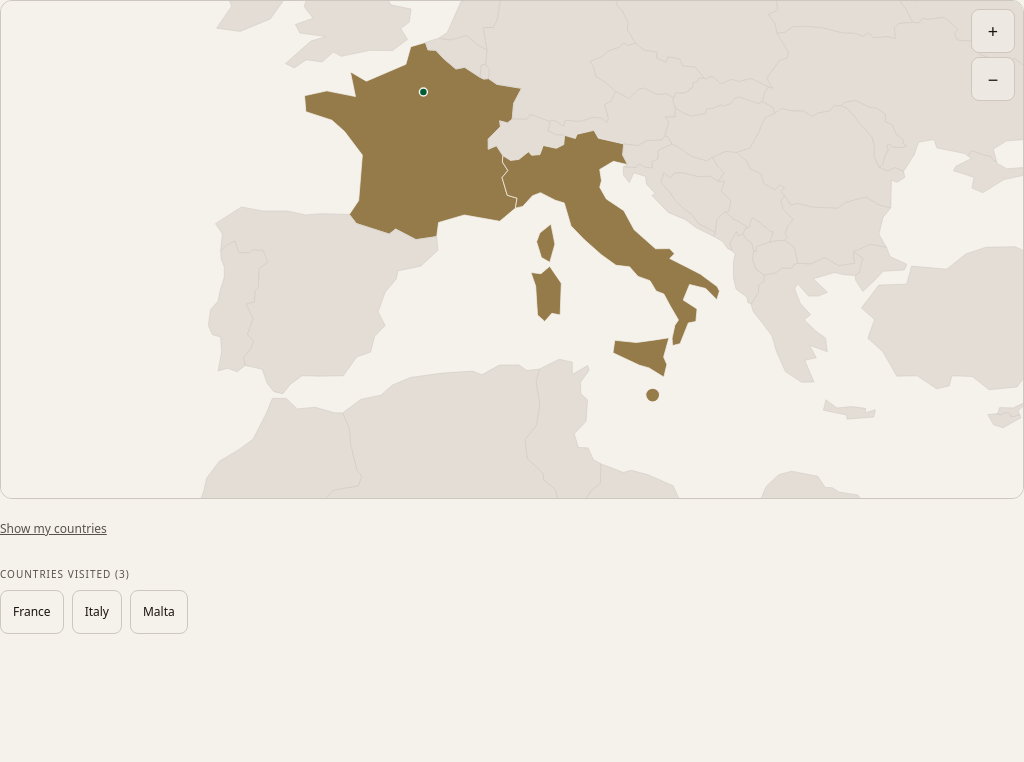
Test: a country's sheet › "✕" (read "Close") closes it, and so does Escape; its heading takes focus when it opens
expect the button "Show my countries" is shown: met, box [0, 507, 107, 551]
Click the button "France" at (32, 612), box [0, 590, 64, 634]
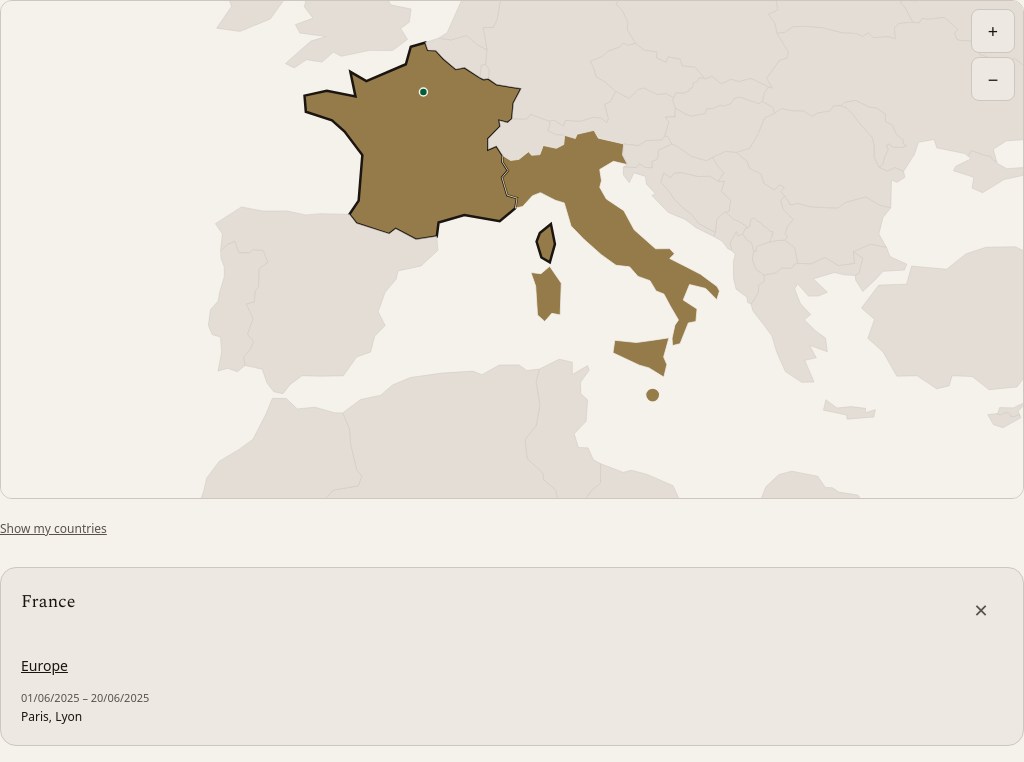
expect the heading "France" is shown: met, box [21, 588, 76, 616]
expect the button named "Close" reads "✕": met
Click the button named "Close" at (981, 610), box [959, 588, 1003, 632]
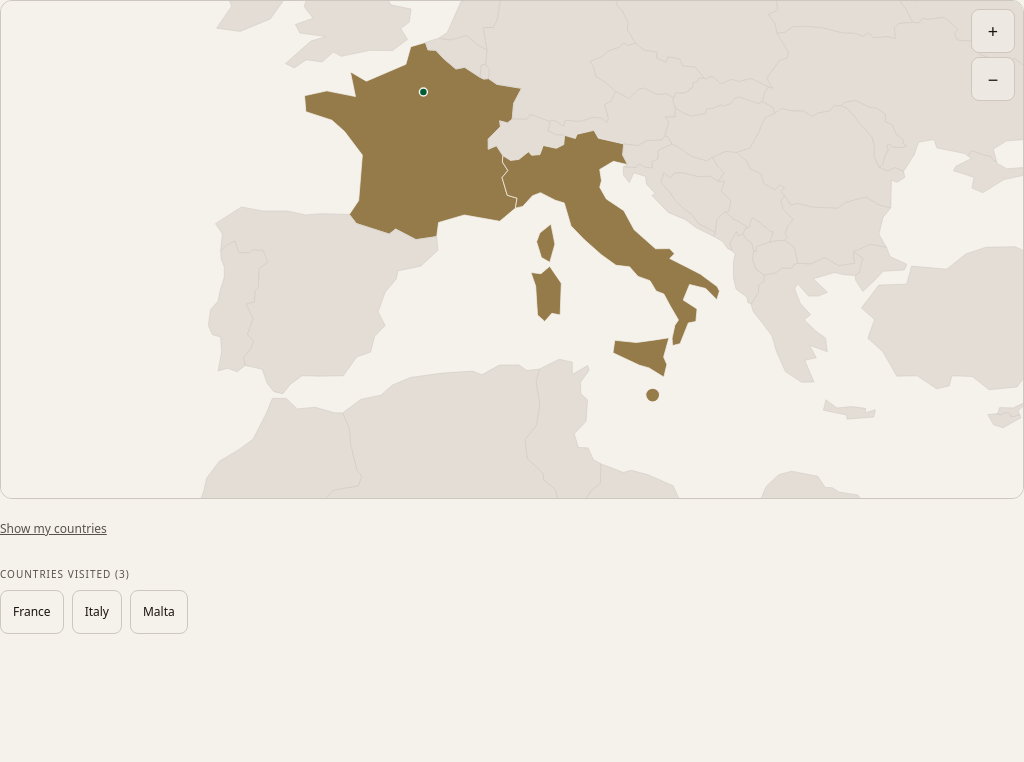
expect the dialog is gone: met
Click the button "Malta" at (159, 612), box [130, 590, 188, 634]
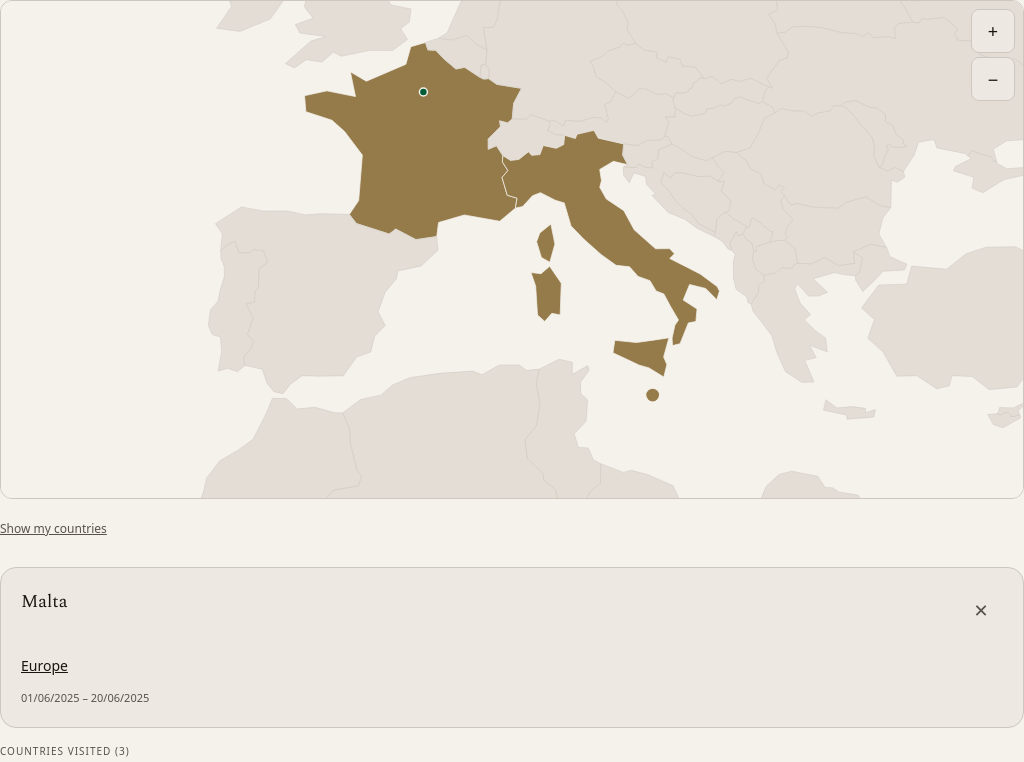
Press Escape in the dialog "Malta", box [0, 567, 1023, 728]
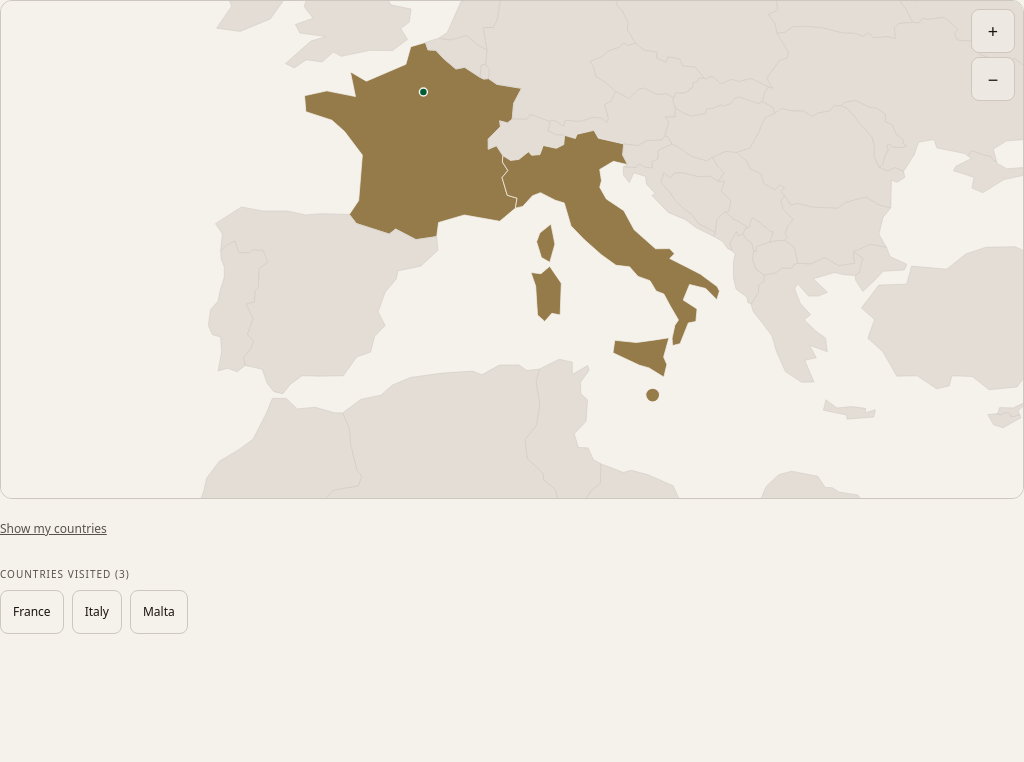
expect the dialog is gone: met
